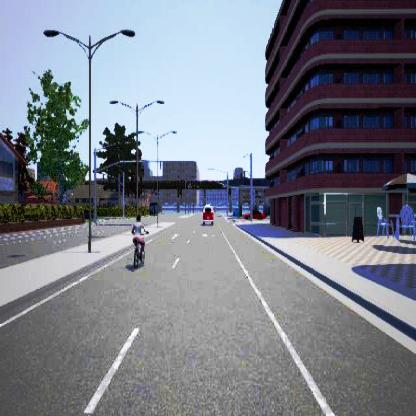bike: (129, 212, 149, 268)
vehicle: (202, 203, 213, 224)
